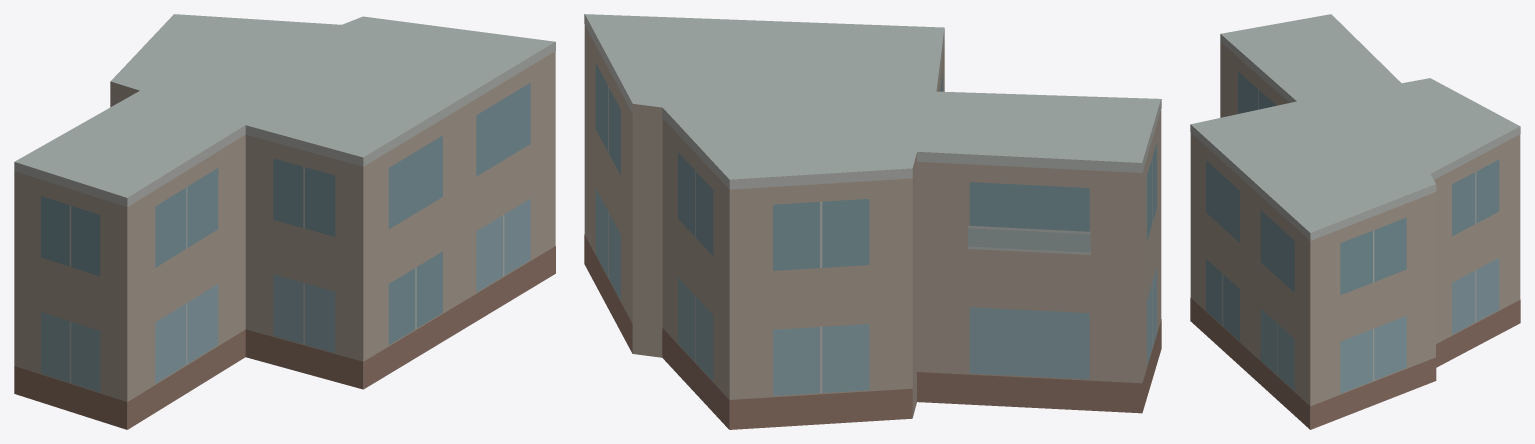
The model's file is survey-upis-32462337.glb.
The picture shows the model from 3 angles, left to right: view 1: azimuth 30°, elevation 25°; view 2: azimuth 150°, elevation 25°; view 3: azimuth 270°, elevation 25°; orthographic projection. The views are drawn at different scales.
Visible parts, largest first — view 1: survey-upis-32462337.tmp; view 2: survey-upis-32462337.tmp; view 3: survey-upis-32462337.tmp.
Boxes of the visible parts, x1,y1,x2,y2 form: survey-upis-32462337.tmp: [14, 14, 555, 429]; survey-upis-32462337.tmp: [584, 14, 1161, 429]; survey-upis-32462337.tmp: [1190, 14, 1520, 429].
Bounding box in the file's own units: 14.57 × 6.1 × 9.28.
